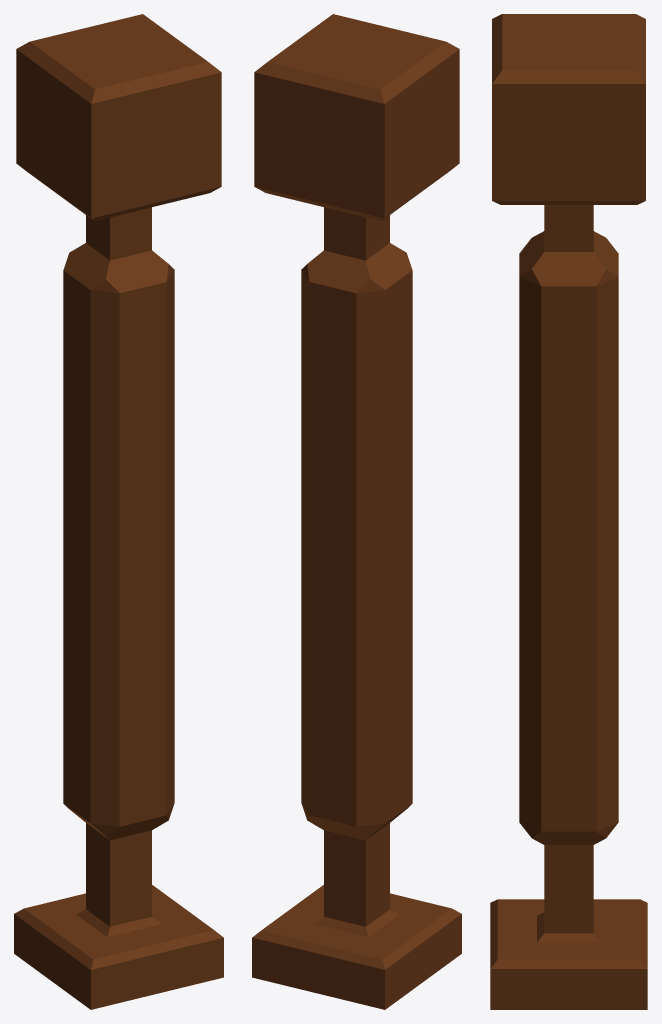
Rendered from Rambarde_Poteau.fbx.
3 views of the same model, side by side, from view 1: azimuth 30°, elevation 25°; view 2: azimuth 150°, elevation 25°; view 3: azimuth 270°, elevation 25° (orthographic). The views are drawn at different scales.
Visible parts, largest first — view 1: Poteau; view 2: Poteau; view 3: Poteau.
Part boxes in pixels (bbox=[...]): Poteau: bbox=[14, 14, 223, 1009]; Poteau: bbox=[252, 14, 461, 1009]; Poteau: bbox=[490, 14, 647, 1009].
Size of the model in its own units: 60 by 394 by 60.
